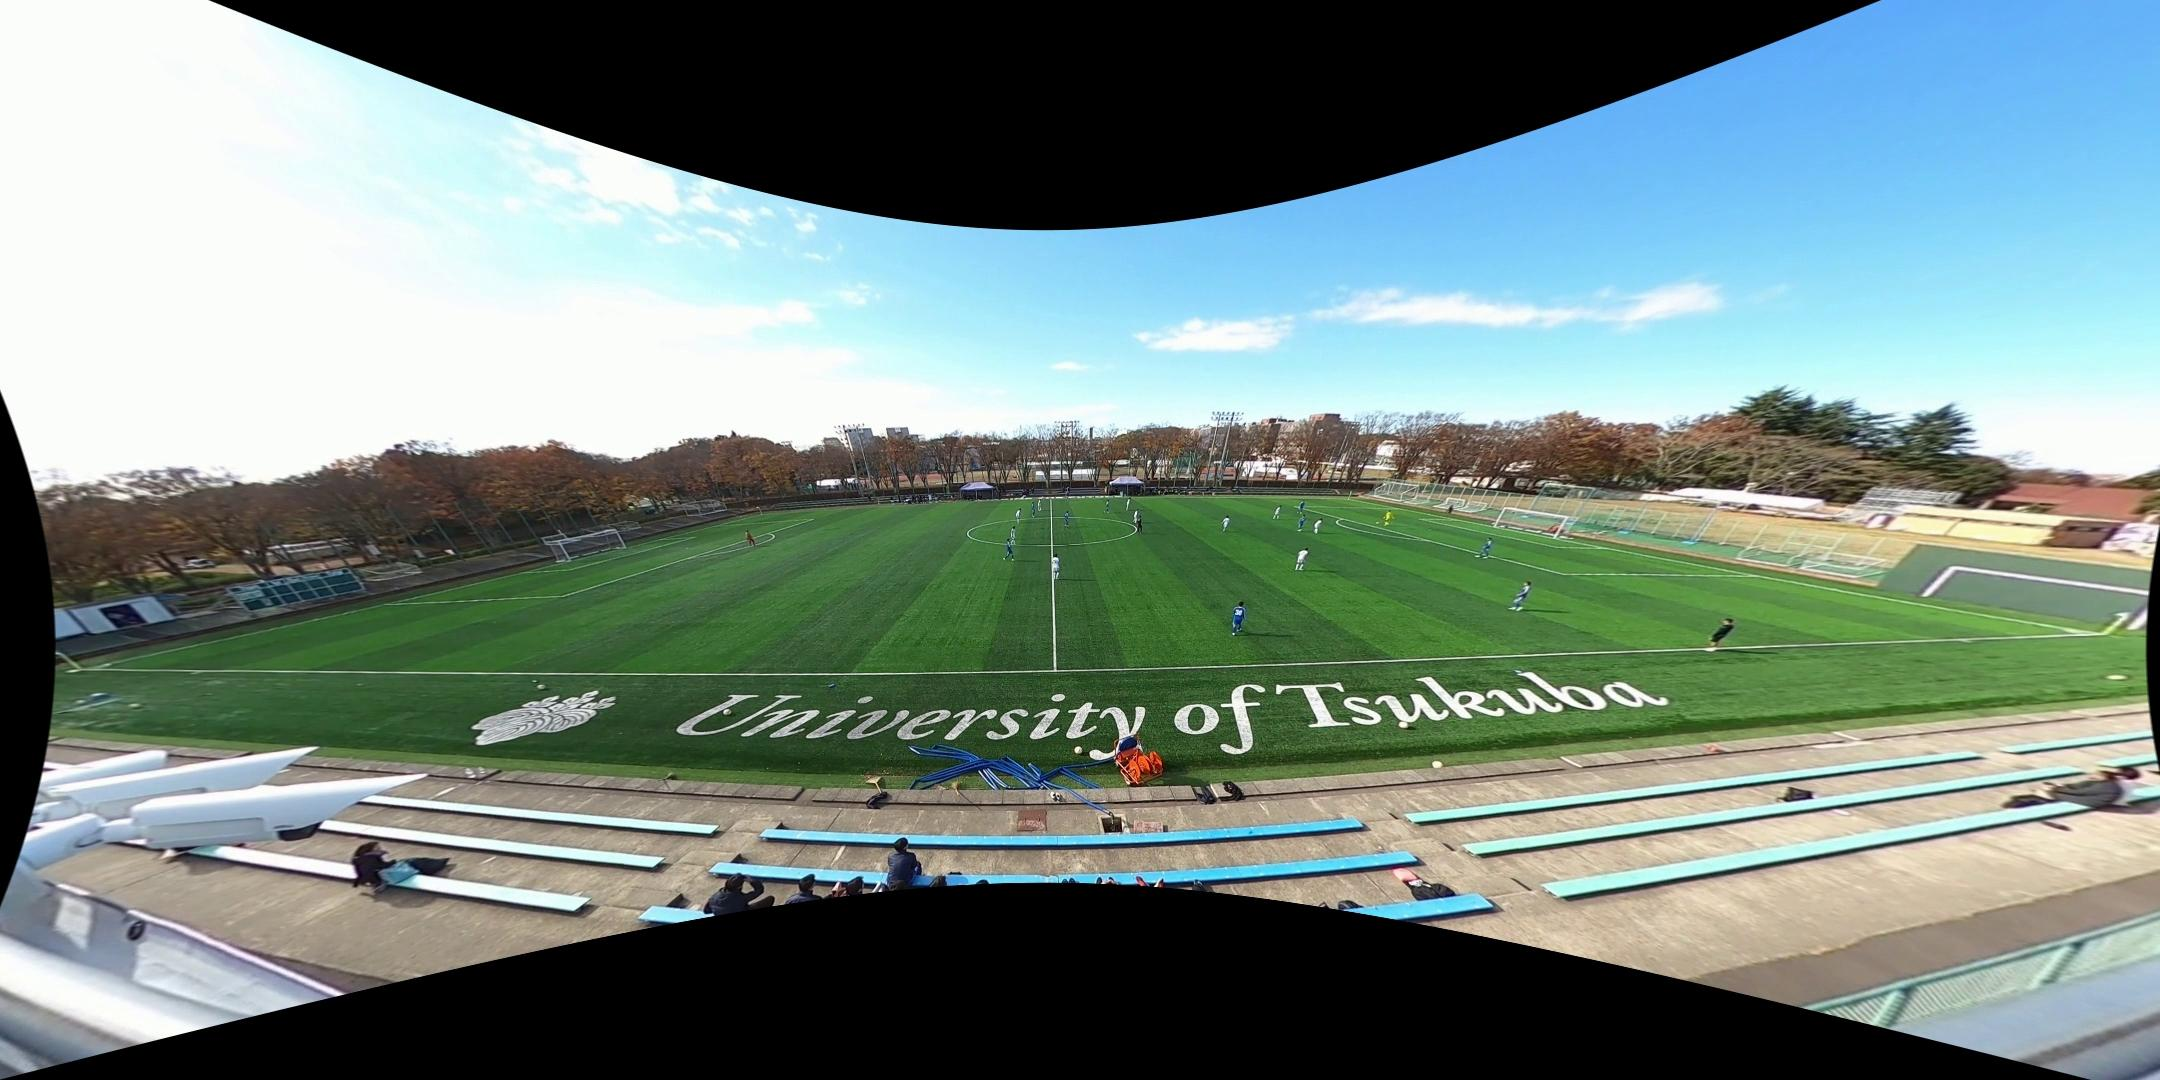person: (1707, 616, 1735, 650), (1508, 582, 1530, 612), (1228, 602, 1246, 636), (1475, 536, 1494, 560), (1294, 548, 1309, 571), (1050, 554, 1061, 580), (1003, 538, 1015, 561), (1381, 509, 1395, 528), (745, 529, 756, 546), (1221, 515, 1230, 532), (1272, 505, 1282, 520), (1313, 518, 1322, 534), (1297, 516, 1306, 531), (1136, 515, 1143, 533), (1010, 525, 1016, 545), (1297, 500, 1305, 514), (1103, 499, 1110, 514), (1132, 509, 1139, 523), (1015, 508, 1022, 522), (1064, 511, 1070, 526), (1126, 498, 1131, 511), (1031, 502, 1035, 518), (1065, 491, 1069, 502), (1038, 499, 1041, 511)
sports ball: (1432, 759, 1445, 770), (1072, 744, 1083, 755), (1398, 719, 1409, 730), (538, 682, 545, 692), (1375, 520, 1380, 526)
